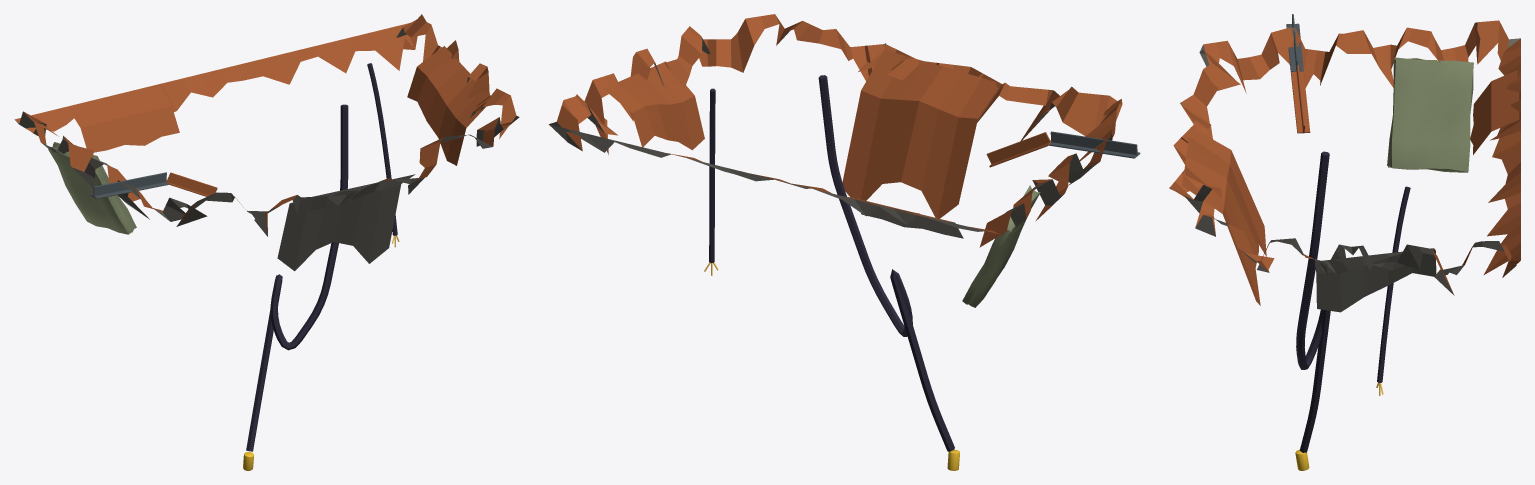
Rendered from hole_rim.glb.
3 views of the same model, side by side, from view 1: azimuth 30°, elevation 25°; view 2: azimuth 150°, elevation 25°; view 3: azimuth 270°, elevation 25° (orthographic). The views are drawn at different scales.
Visible parts, largest first — view 1: Rim; view 2: Rim; view 3: Rim.
Part boxes in pixels (box(x1,y1,x2,y2)): Rim: box(14, 14, 519, 470); Rim: box(549, 14, 1140, 470); Rim: box(1169, 14, 1520, 470).
Size of the model in its own units: 2.57 by 1.91 by 1.62.
